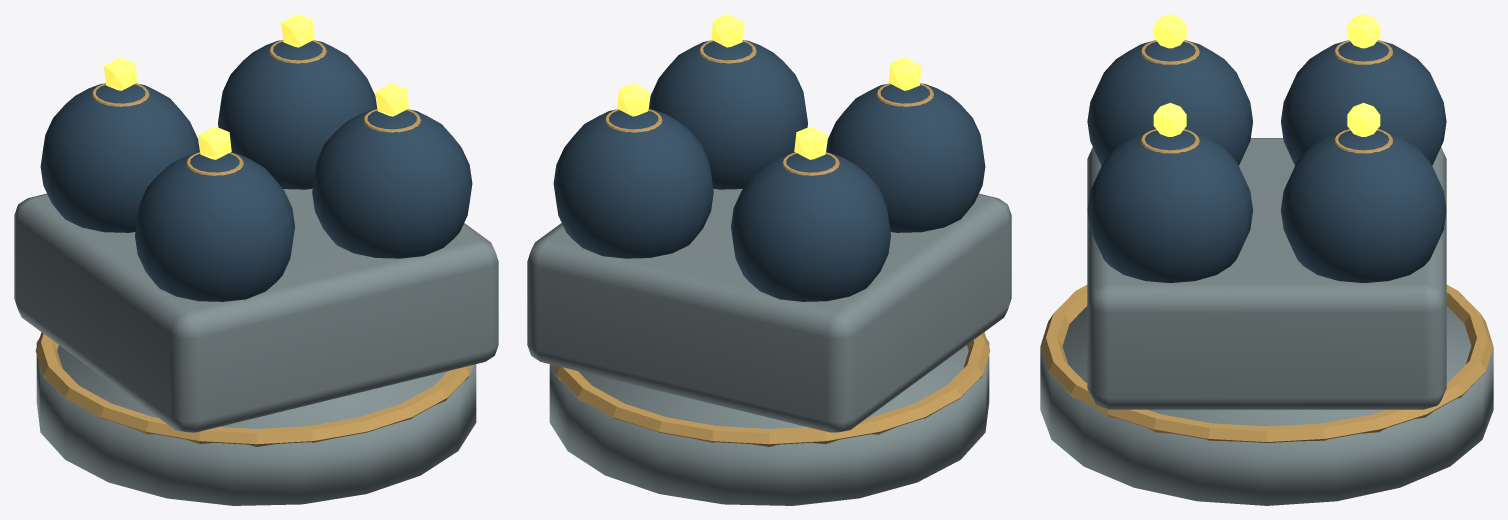
File: module-mines.glb
The picture shows the model from 3 angles, left to right: view 1: azimuth 30°, elevation 25°; view 2: azimuth 150°, elevation 25°; view 3: azimuth 270°, elevation 25°; orthographic projection. The views are drawn at different scales.
Visible parts, largest first — view 1: module-mines / Iron | weathered steel, module-mines / Paint | Prussian blue, module-mines / Brass | machined champagne, module-mines / Lamp | amber; view 2: module-mines / Iron | weathered steel, module-mines / Paint | Prussian blue, module-mines / Brass | machined champagne, module-mines / Lamp | amber; view 3: module-mines / Iron | weathered steel, module-mines / Paint | Prussian blue, module-mines / Brass | machined champagne, module-mines / Lamp | amber.
Part boxes in pixels (x1,y1,x2,y2): module-mines / Iron | weathered steel: (14, 188, 498, 505); module-mines / Paint | Prussian blue: (40, 40, 472, 301); module-mines / Brass | machined champagne: (35, 40, 472, 446); module-mines / Lamp | amber: (104, 14, 408, 159); module-mines / Iron | weathered steel: (527, 188, 1011, 505); module-mines / Paint | Prussian blue: (553, 40, 985, 301); module-mines / Brass | machined champagne: (553, 40, 990, 446); module-mines / Lamp | amber: (617, 14, 921, 159); module-mines / Iron | weathered steel: (1040, 138, 1493, 505); module-mines / Paint | Prussian blue: (1087, 40, 1446, 282); module-mines / Brass | machined champagne: (1040, 40, 1493, 442); module-mines / Lamp | amber: (1153, 14, 1380, 136).
Bounding box in the file's own units: 1.64 × 1.4 × 1.64.
